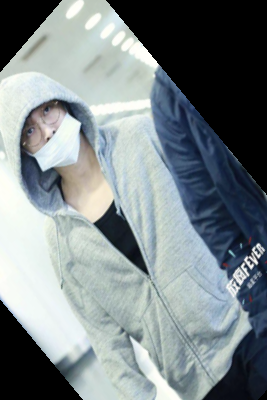mask_weared_incorrect: (1, 62, 98, 223)
